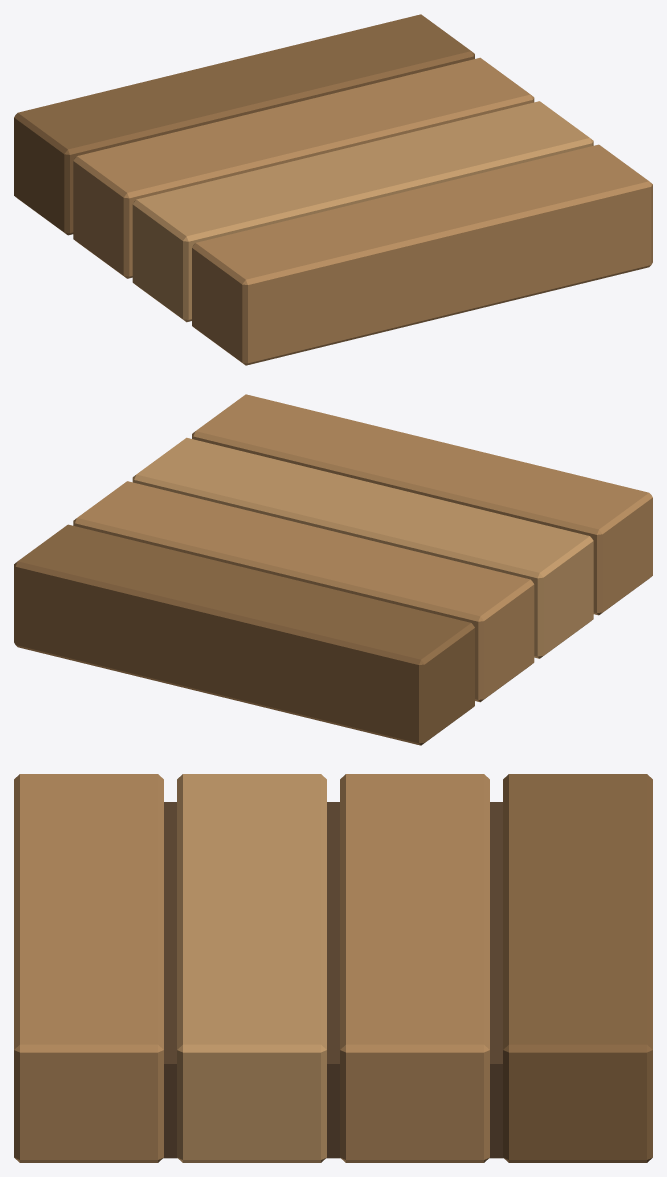
File: dalle_bois.glb
3 views of the same model, one above another, from view 1: azimuth 30°, elevation 25°; view 2: azimuth 150°, elevation 25°; view 3: azimuth 270°, elevation 25° (orthographic). The views are drawn at different scales.
Visible parts, largest first — view 1: dalle_bois_planche.002, dalle_bois_planche_claire.002, dalle_bois_planche_sombre.002; view 2: dalle_bois_planche_sombre.002, dalle_bois_planche.002, dalle_bois_planche_claire.002; view 3: dalle_bois_planche.002, dalle_bois_planche_claire.002, dalle_bois_planche_sombre.002, dalle_bois_bois_sombre.002.
Part boxes in pixels (bbox=[...]): dalle_bois_planche.002: bbox=[73, 57, 652, 365]; dalle_bois_planche_claire.002: bbox=[132, 101, 593, 322]; dalle_bois_planche_sombre.002: bbox=[14, 14, 474, 235]; dalle_bois_planche_sombre.002: bbox=[14, 524, 474, 745]; dalle_bois_planche.002: bbox=[73, 394, 652, 702]; dalle_bois_planche_claire.002: bbox=[132, 437, 593, 658]; dalle_bois_planche.002: bbox=[14, 774, 489, 1162]; dalle_bois_planche_claire.002: bbox=[177, 774, 326, 1162]; dalle_bois_planche_sombre.002: bbox=[503, 774, 652, 1162]; dalle_bois_bois_sombre.002: bbox=[163, 802, 503, 1158].
Bounding box in the file's own units: 0.5 × 0.1 × 0.49.
